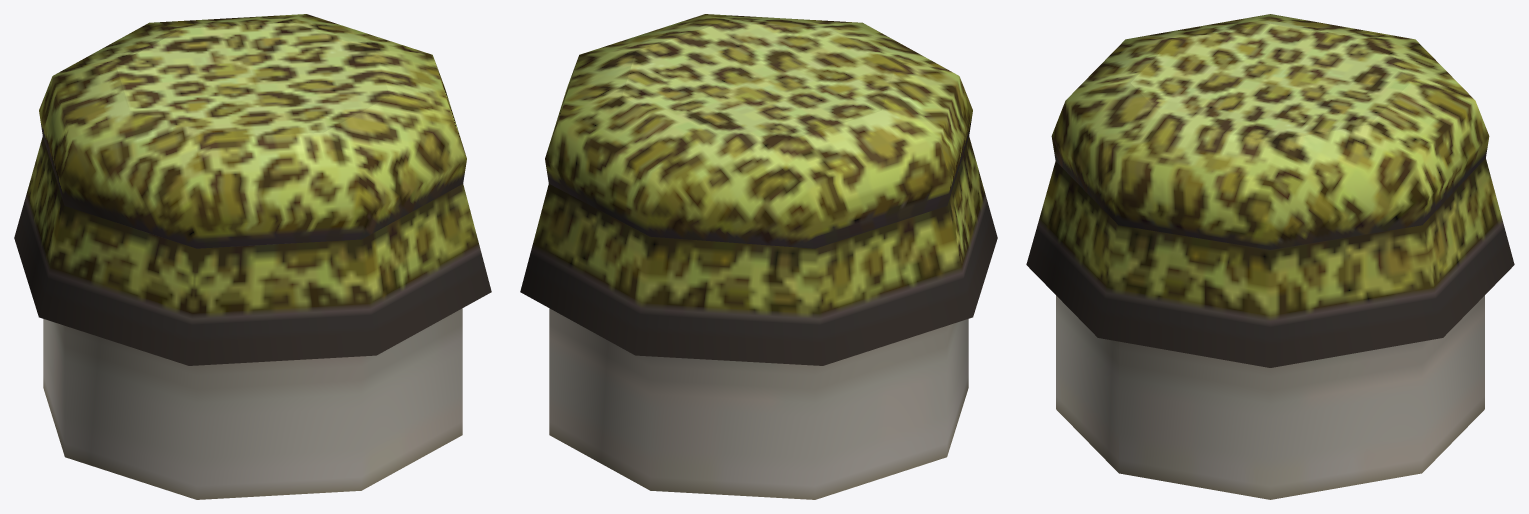
Rendered from furni_0200095_01.FBX.
3 views of the same model, side by side, from view 1: azimuth 30°, elevation 25°; view 2: azimuth 150°, elevation 25°; view 3: azimuth 270°, elevation 25° (orthographic).
Parts seen in each view (by area): view 1: furni_0200095_01; view 2: furni_0200095_01; view 3: furni_0200095_01.
Boxes of the visible parts, bbox=[...] form: furni_0200095_01: bbox=[14, 14, 491, 499]; furni_0200095_01: bbox=[520, 14, 997, 499]; furni_0200095_01: bbox=[1026, 14, 1514, 499].
Bounding box in the file's own units: 61 × 45 × 61.
1 material, 1 textured.
